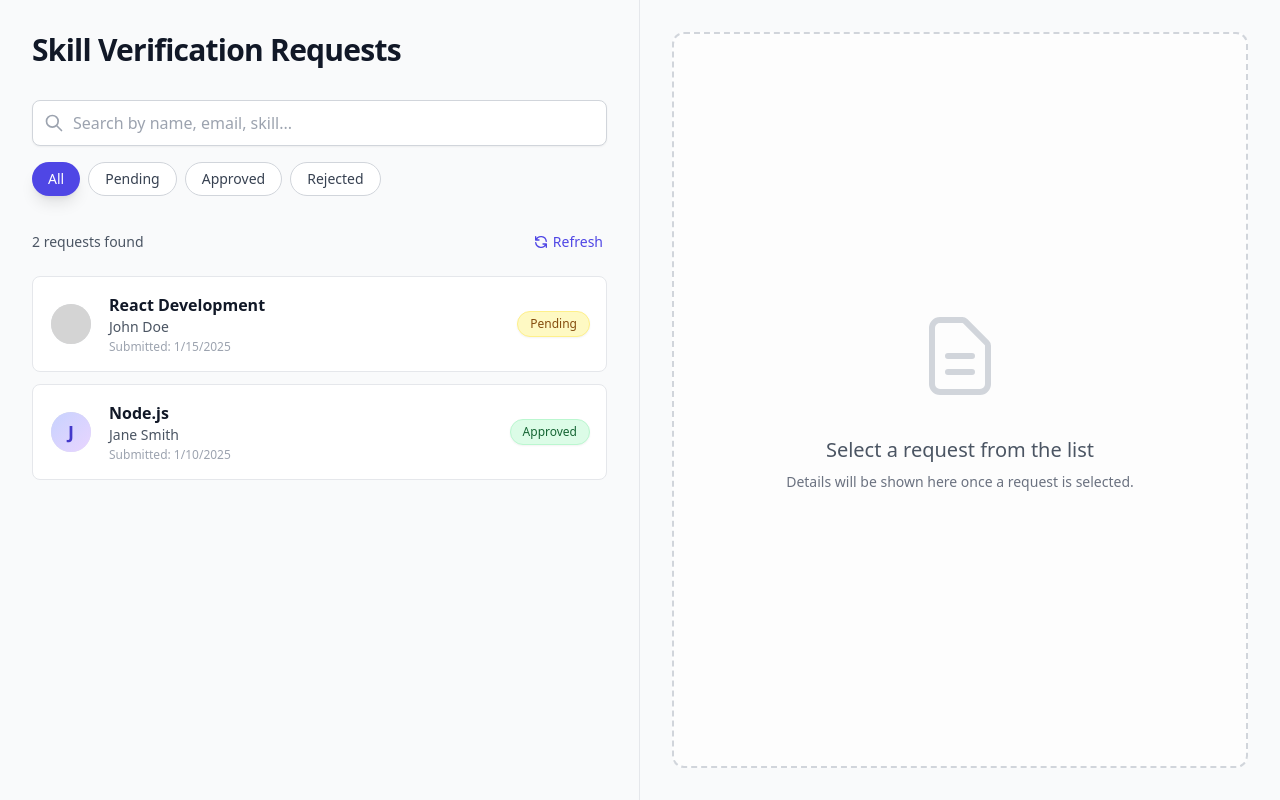
Test: VerificationRequests Component › searches requests by skill name
The image size is (1280, 800).
Expected: the heading "React Development" is shown, [109,293,265,317]
Type "React" into the search field with placeholder "Search by name, email, skill..." at (320, 123), box [32,100,607,146]
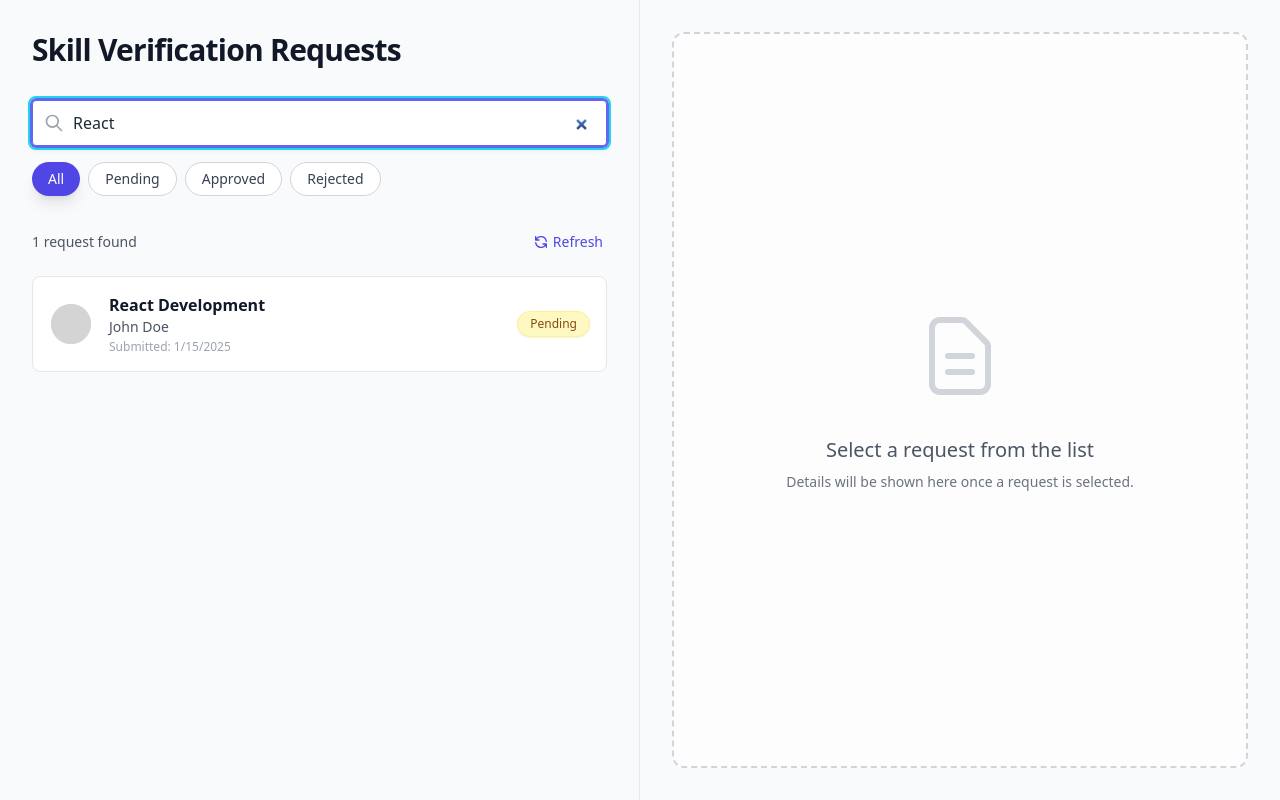
Expected: the heading "React Development" is shown, [109,293,265,317]
Now the heading "Node.js" is gone
